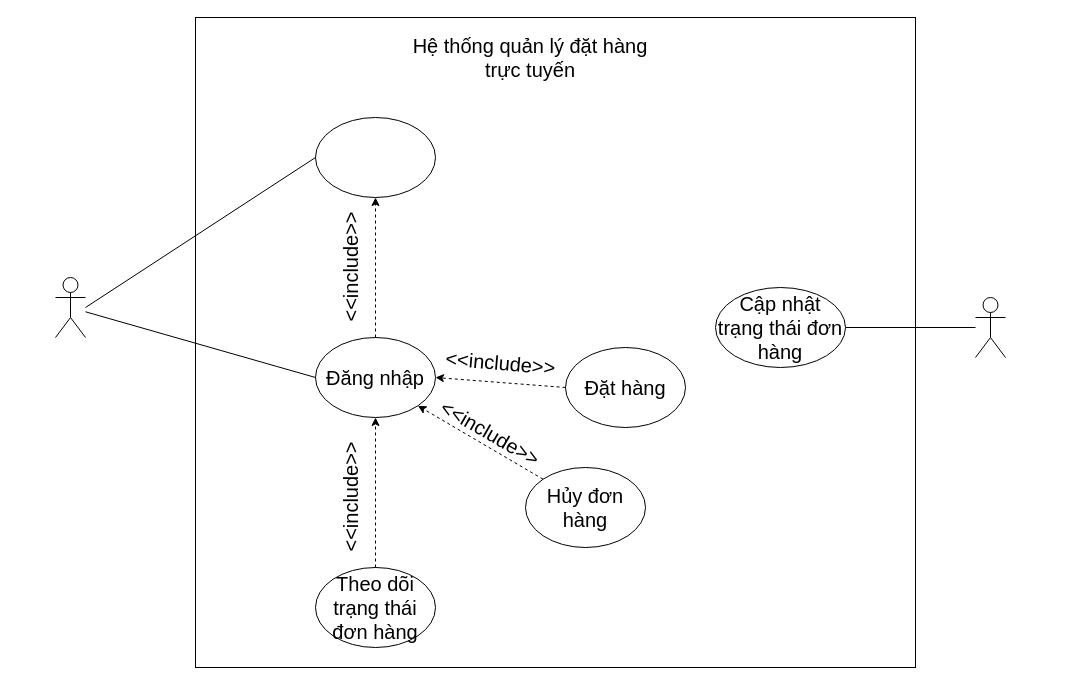
Image size: 1072x685. Some labels were removed from this diagram. Each missing label, with the box of its shape:
Khách hàng: (54, 276, 86, 338)
Nhân viên kho: (974, 296, 1006, 358)
Đăng ký tài khoản: (314, 116, 436, 198)
